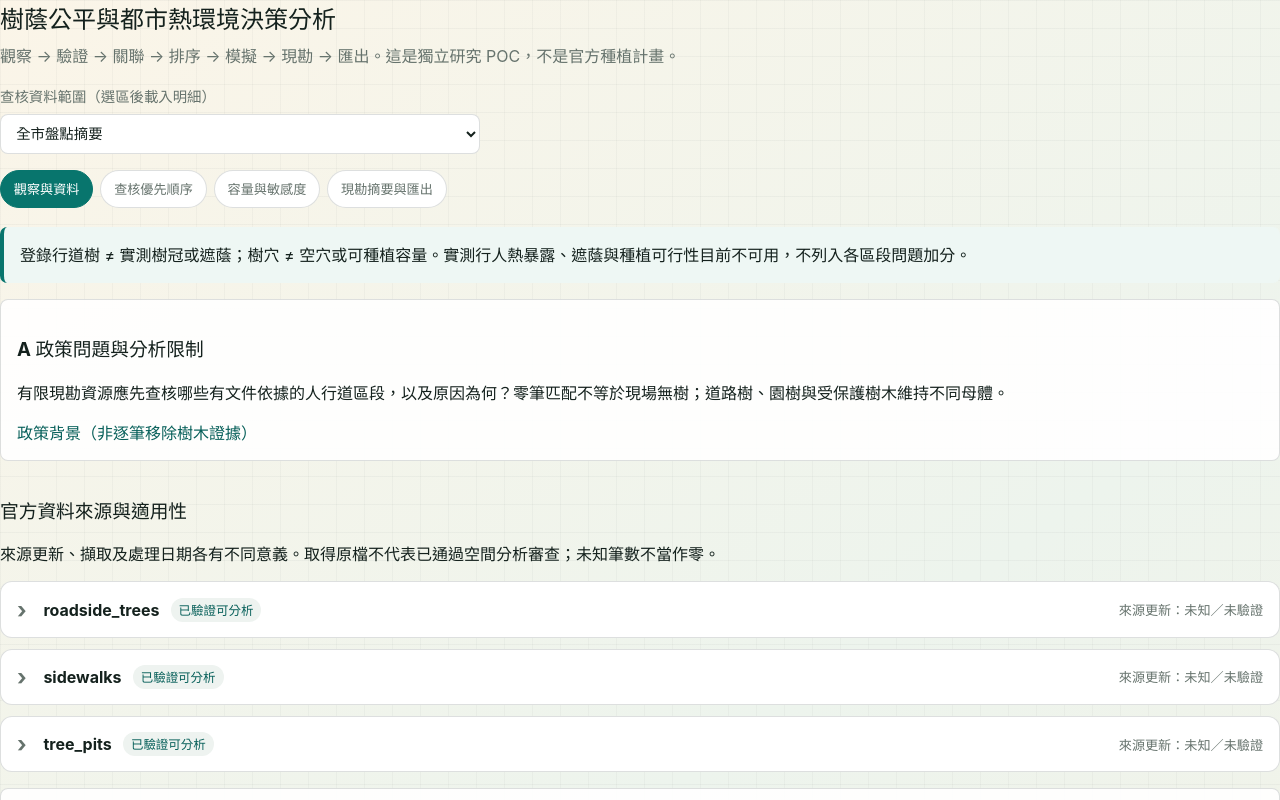
Test: shade equity dashboard › explains the measurement gate when official geometry exists but lengths are unverified
Click the button "查核優先順序" at [153, 189], box [100,170,207,208]
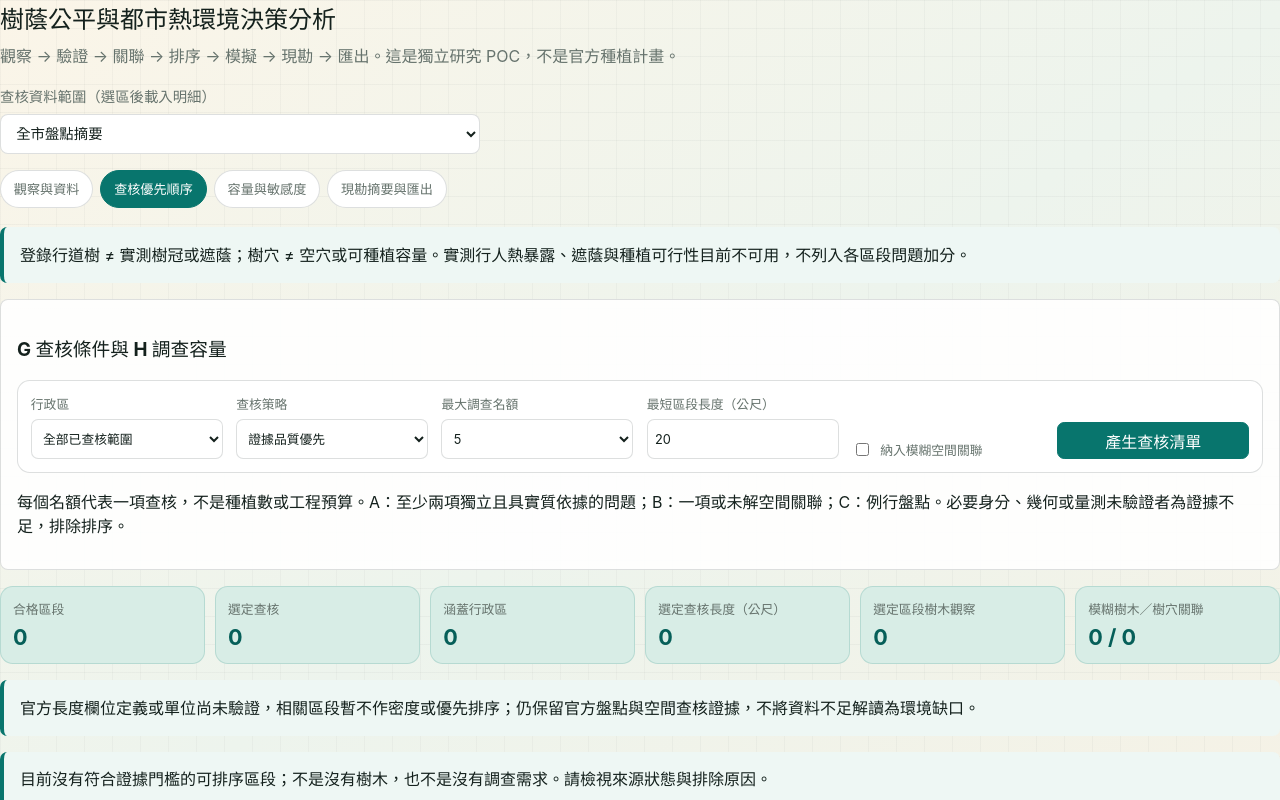
Expected: the text "官方長度欄位定義或單位尚未驗證，相關區段暫不作密度或優先排序；仍保留官方盤點與空間查核證據，不將資料不足解讀為環境缺口。" is shown, [0,680,1279,736]
